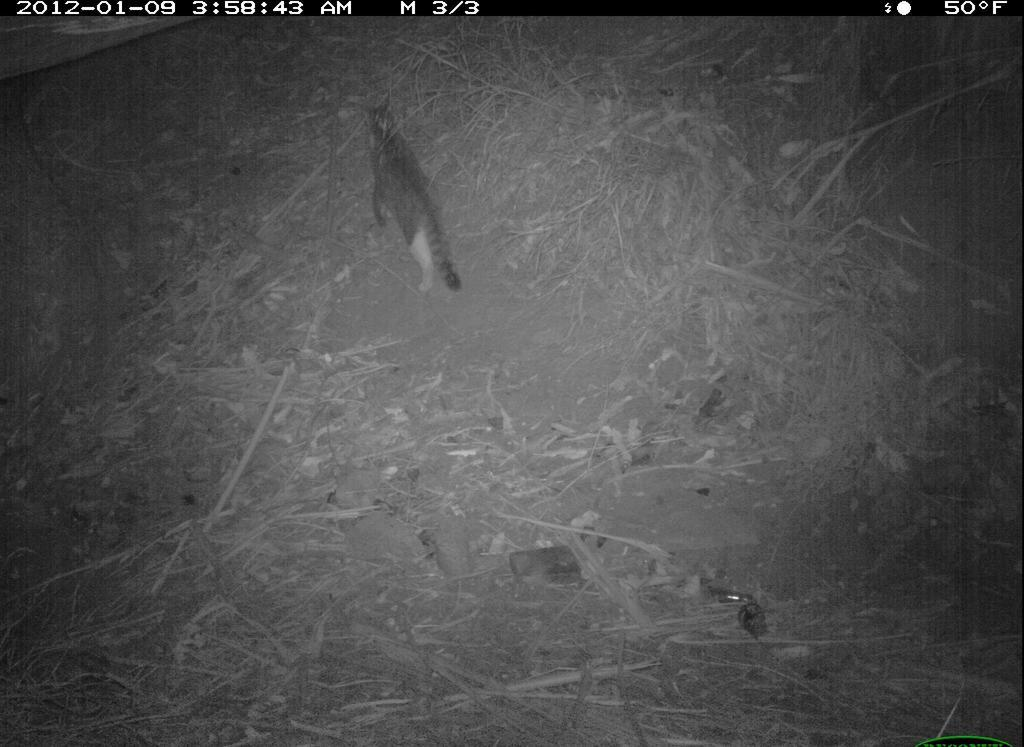cat: (350, 93, 469, 297)
